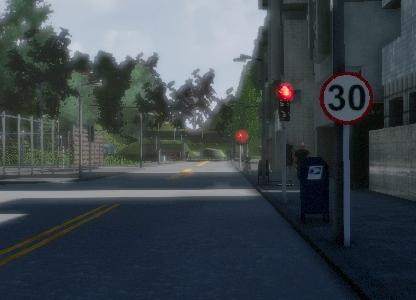Speed_30: (318, 69, 374, 127)
